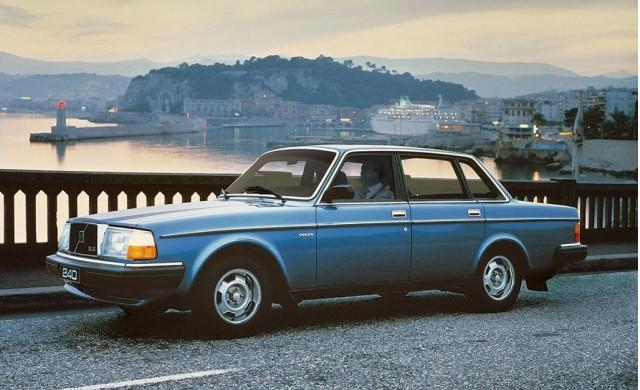Sedan: (44, 142, 589, 332)
